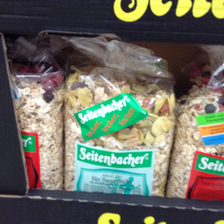cereal: (65, 62, 176, 199), (2, 68, 64, 190), (170, 79, 224, 199)
